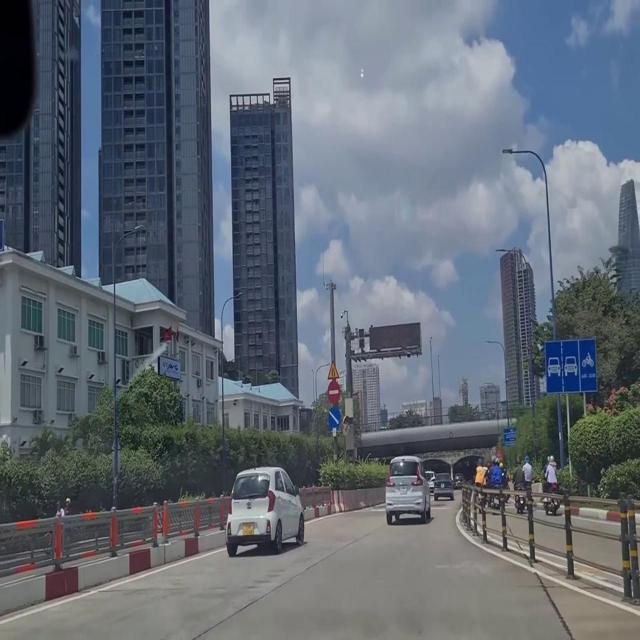Cấm đi ngược chiều: (324, 378, 342, 403)
Hướng phải đi vòng sang phải: (324, 401, 343, 428)
Khác: (500, 424, 518, 444)
Làn đường cho từng xe: (542, 334, 597, 397)
Đường hẹp: (324, 356, 339, 380)
